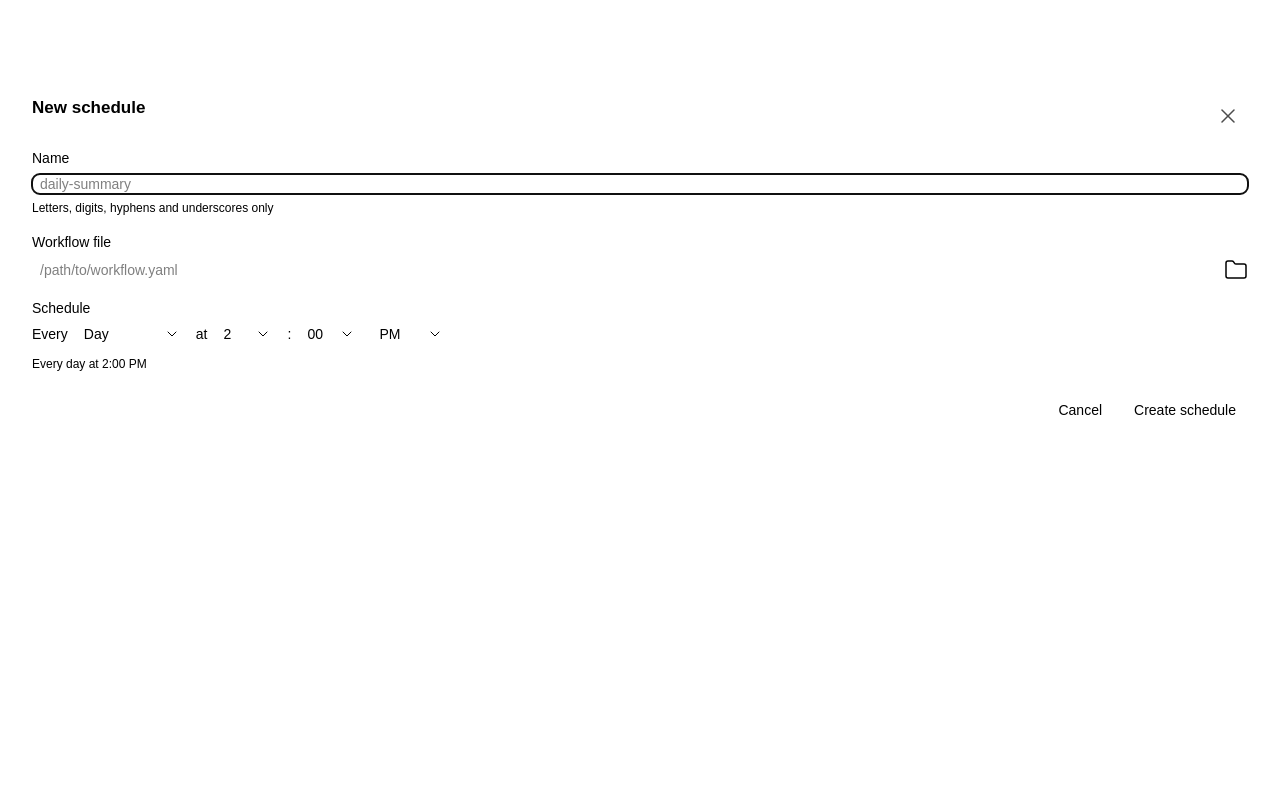
Scenario: ScheduleModal name validation › answers an empty name with the Field error, not a native bubble
In the field labelled "Workflow file": (624, 270) [32,260,1216,280], type "/tmp/wf.yaml"
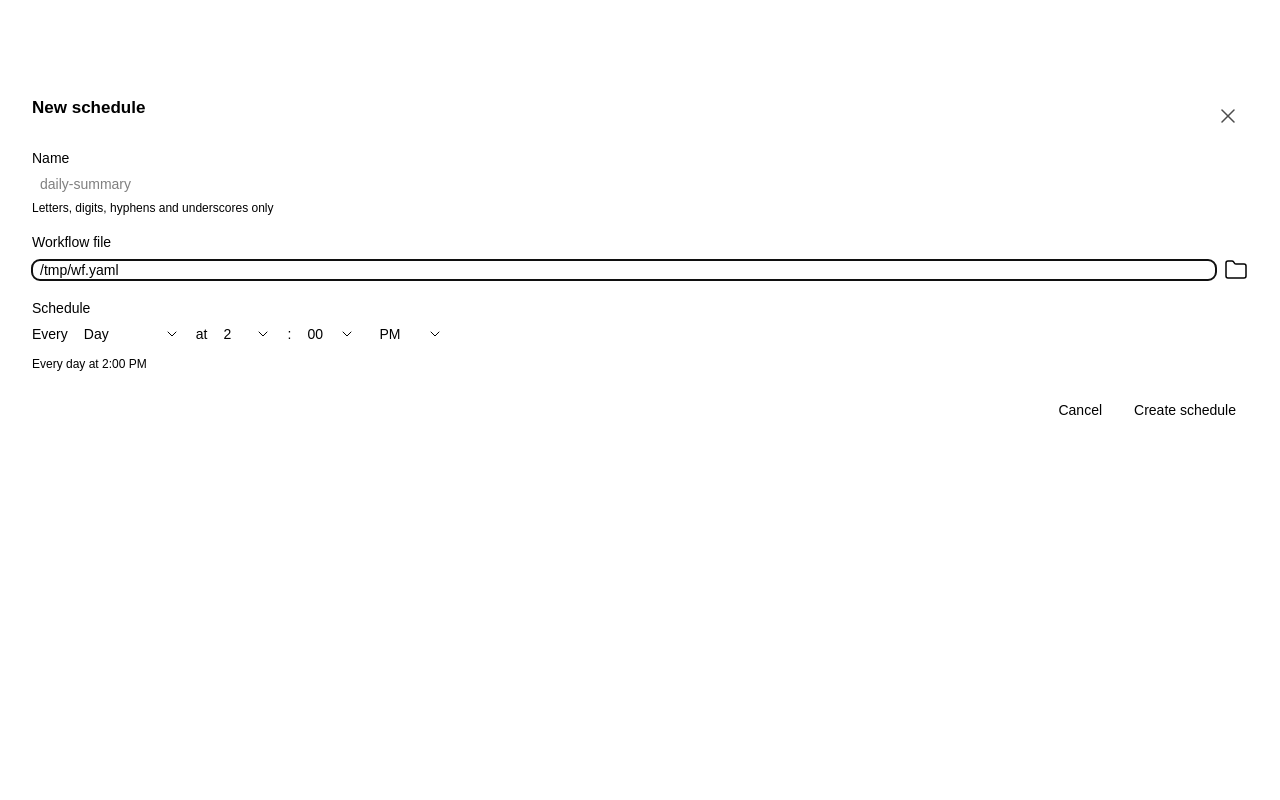
Click the button "Create schedule": (1185, 410) [1122,400,1248,420]
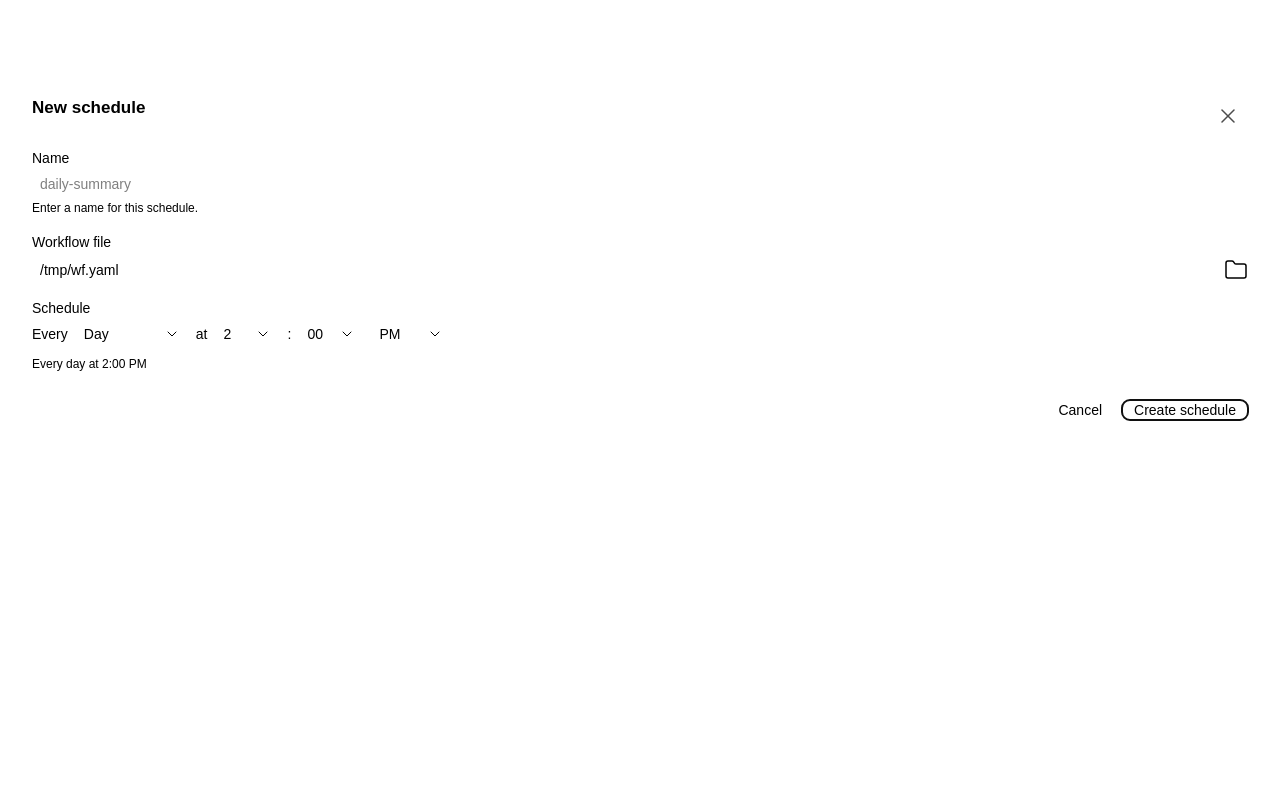
Check: the message reads "Enter a name for this schedule.", box [32,201,198,215]
// Typing clears it again, the same as every other Field error.
In the field labelled "Name": (640, 184) [32,174,1248,194], type "a"
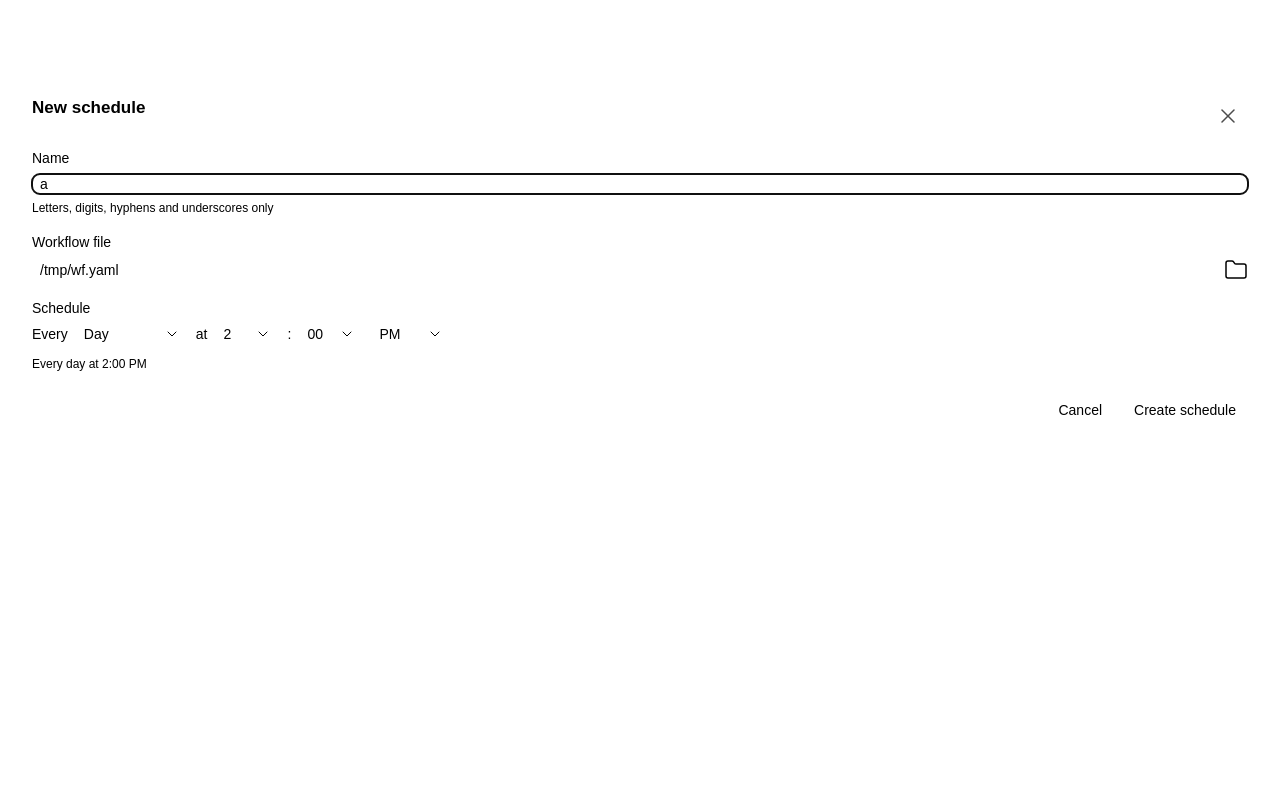
Check: the message "Enter a name for this schedule." is gone
